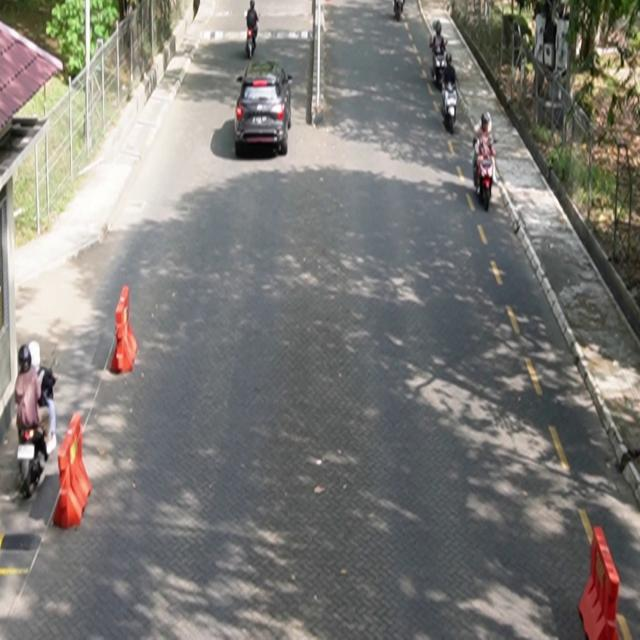car: (235, 59, 294, 157)
